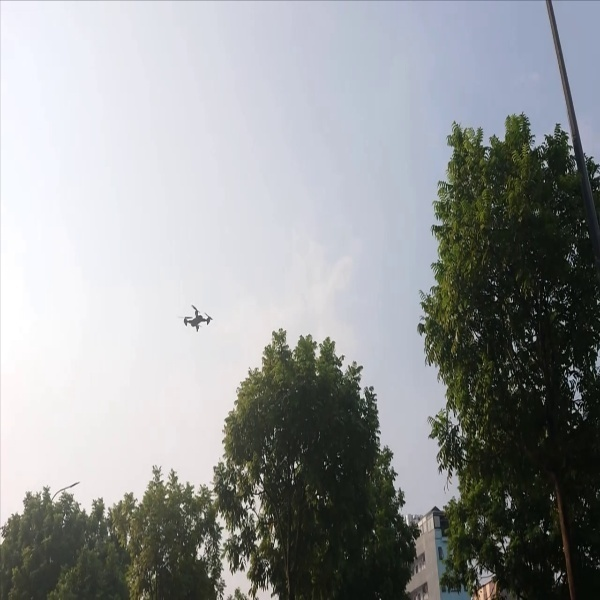drone: (171, 298, 218, 336)
